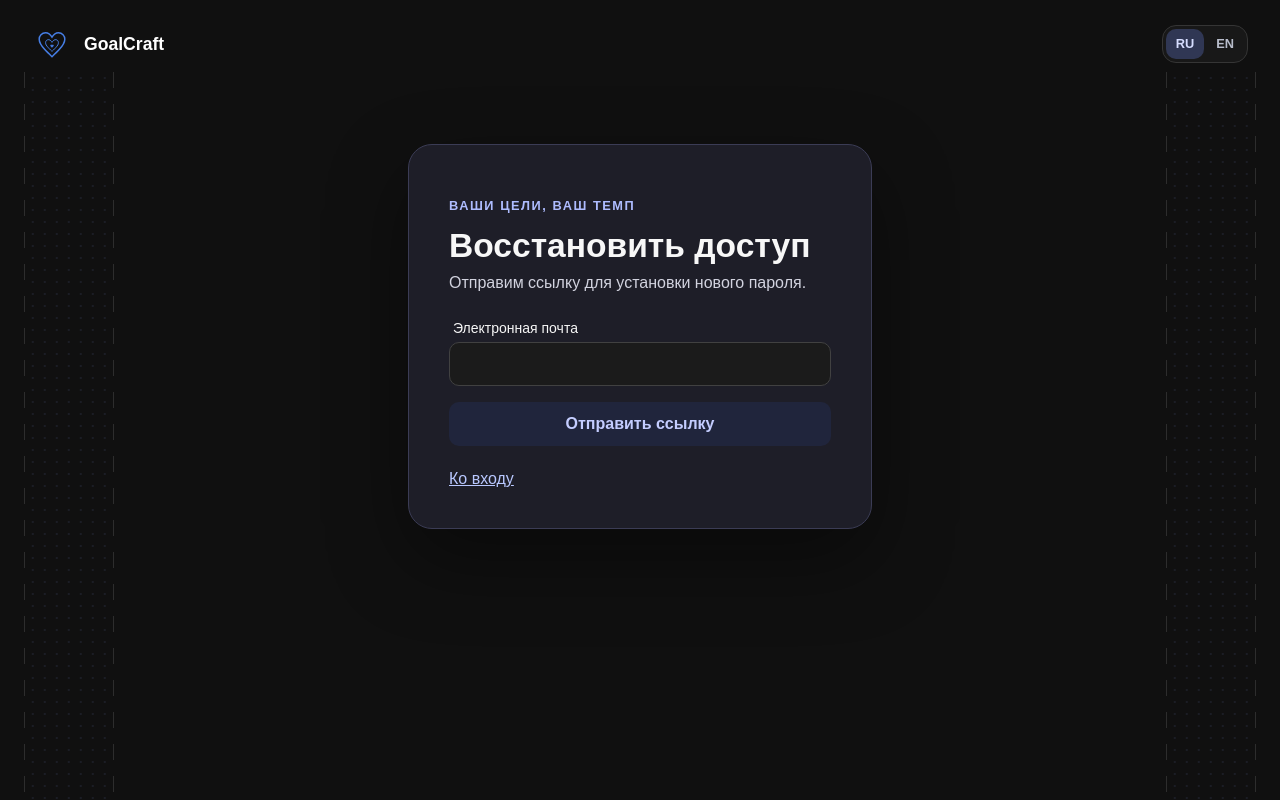
Test case: password recovery confirms sending without exposing account existence
Type "me@example.com" into the field labelled "Электронная почта".
click(640, 364); type("me@example.com")  # box [449,342,831,386]
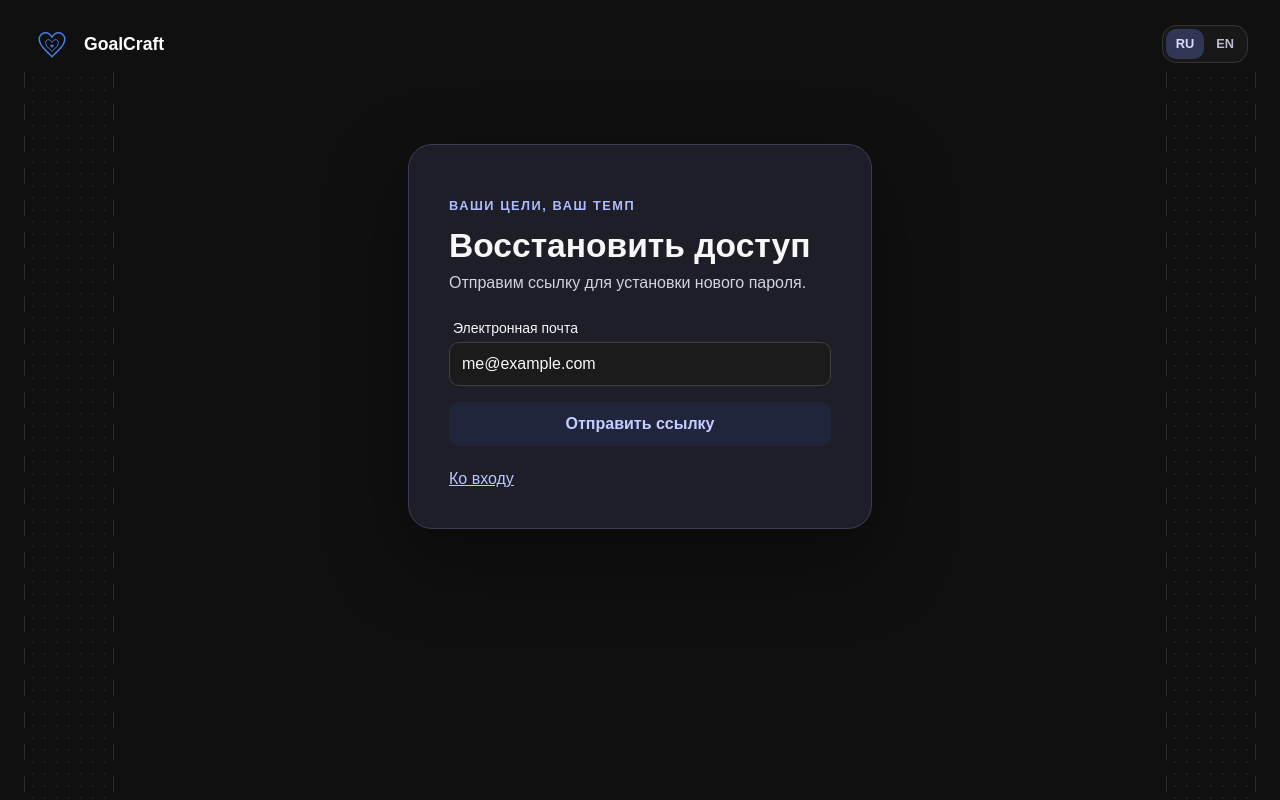
Click the button "Отправить ссылку".
click(640, 424)  # box [449,402,831,446]
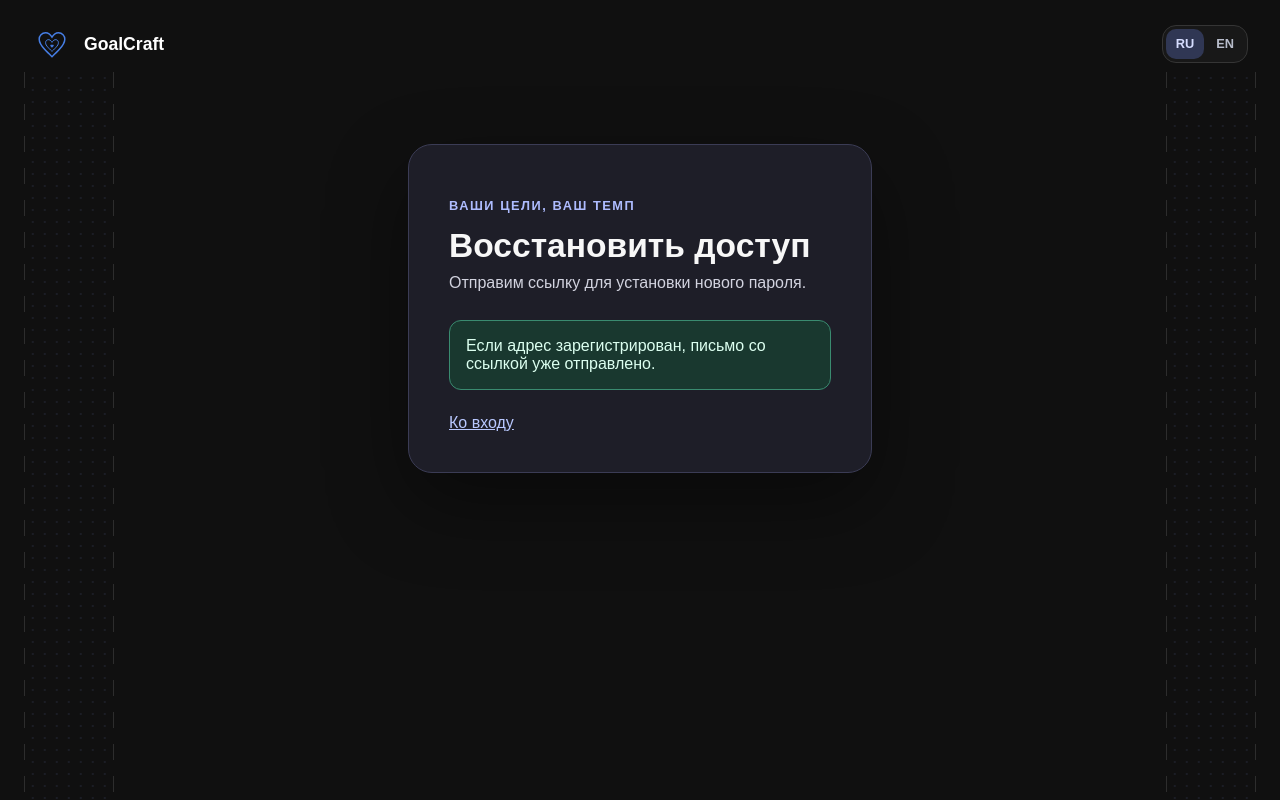
Check: the text "Если адрес зарегистрирован, письмо со ссылкой уже отправлено." is shown, box [449,320,831,390]
